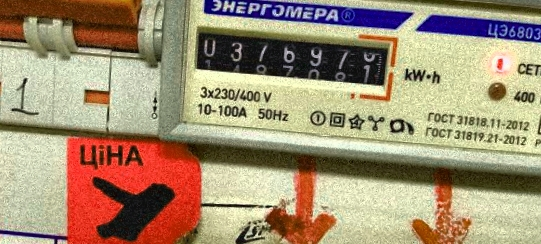0: (200, 34, 217, 57)
1: (360, 61, 370, 84)
3: (228, 39, 243, 61)
6: (280, 39, 297, 63)
7: (254, 38, 270, 62), (334, 44, 350, 68)
9: (307, 43, 323, 66)
screen: (182, 16, 401, 104)
